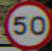Speed limit: (5, 1, 48, 42)
